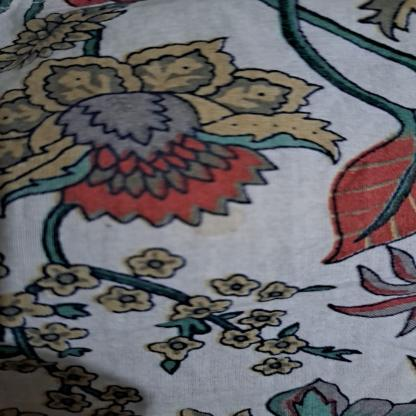spot: (184, 200, 254, 241)
